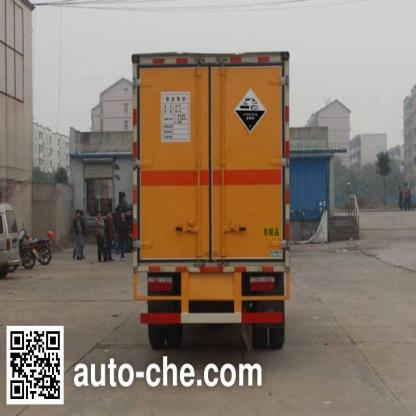normal-truck: (129, 46, 301, 332)
